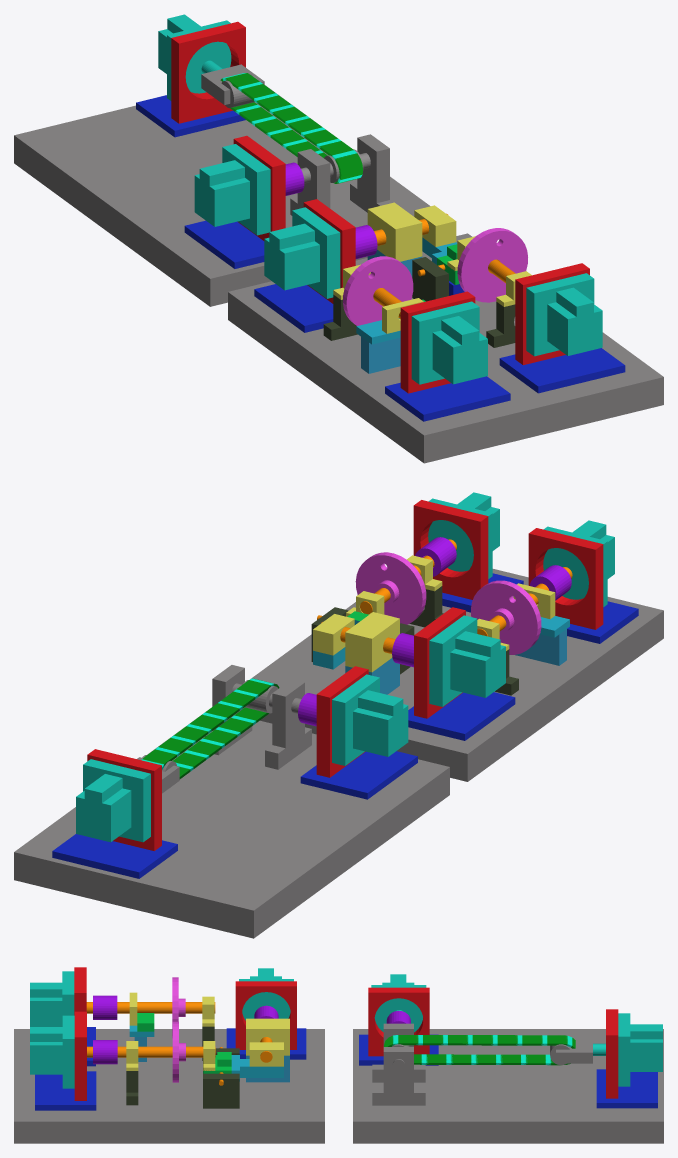
The model's file is check.glb.
3 renders of one model, top to bottom at view 1: azimuth 30°, elevation 25°; view 2: azimuth 150°, elevation 25°; view 3: azimuth 270°, elevation 25°, orthographic. The views are drawn at different scales.
Parts seen in each view (by area): view 1: Cube.012, Cube.017, Cube.011, Cube.018, Cube.013, Cube.008, Cube.002, Cube.019, Cylinder.013, Cylinder.006, Cube.010, Cube.001 (+13 smaller); view 2: Cube.012, Cube.017, Cube.013, Cube.011, Cube.018, Cube.019, Cylinder.013, Cylinder.006, Cube.007, Cube.004, Cube.008, Cube.002 (+11 smaller); view 3: Cube.012, Cube.017, Cube.013, Cube.011, Cube.018, Cube.019, Cube.008, Cube.026, Cube.014, Cube.002, Cylinder.013, Cylinder.006 (+13 smaller).
Part boxes in pixels (left/top/right/bottom): Cube.012: left=14, top=85, right=430, bottom=306; Cube.017: left=228, top=233, right=663, bottom=463; Cube.011: left=184, top=135, right=285, bottom=268; Cube.018: left=254, top=199, right=355, bottom=332; Cube.013: left=136, top=14, right=245, bottom=137; Cube.008: left=526, top=273, right=602, bottom=356; Cube.002: left=411, top=301, right=487, bottom=384; Cube.019: left=220, top=73, right=362, bottom=183; Cylinder.013: left=457, top=228, right=527, bottom=302; Cylinder.006: left=342, top=256, right=413, bottom=325; Cube.010: left=499, top=348, right=625, bottom=393; Cube.001: left=385, top=376, right=510, bottom=421; Cube.012: left=14, top=714, right=449, bottom=938; Cube.017: left=251, top=569, right=663, bottom=781; Cube.013: left=52, top=749, right=177, bottom=878; Cube.011: left=300, top=666, right=417, bottom=799; Cube.018: left=408, top=607, right=515, bottom=740; Cube.019: left=142, top=678, right=279, bottom=779; Cylinder.013: left=355, top=537, right=456, bottom=624; Cylinder.006: left=471, top=565, right=572, bottom=654; Cube.007: left=528, top=528, right=603, bottom=629; Cube.004: left=413, top=500, right=488, bottom=599; Cube.008: left=420, top=492, right=499, bottom=578; Cube.002: left=535, top=520, right=614, bottom=606; Cube.012: left=353, top=1029, right=663, bottom=1143; Cube.017: left=14, top=1029, right=324, bottom=1143; Cube.013: left=596, top=1009, right=662, bottom=1108; Cube.011: left=359, top=974, right=438, bottom=1065; Cube.018: left=226, top=968, right=306, bottom=1059; Cube.019: left=384, top=1035, right=575, bottom=1065; Cube.008: left=30, top=1015, right=74, bottom=1088; Cube.026: left=203, top=1041, right=283, bottom=1081; Cube.014: left=372, top=1047, right=425, bottom=1105; Cube.002: left=30, top=971, right=74, bottom=1026; Cylinder.013: left=87, top=1021, right=215, bottom=1082; Cylinder.006: left=86, top=977, right=215, bottom=1038.
Bounding box in the file's own units: 3.58 × 1.67 × 10.62.
45 materials, 21 textured.
